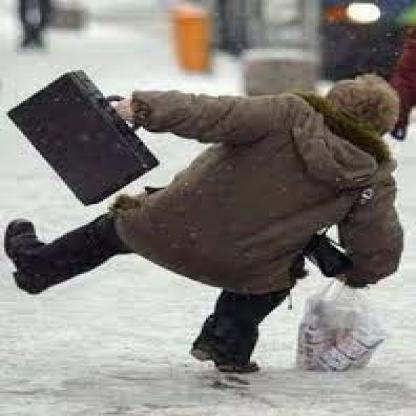Fall_Down: (2, 72, 406, 378)
